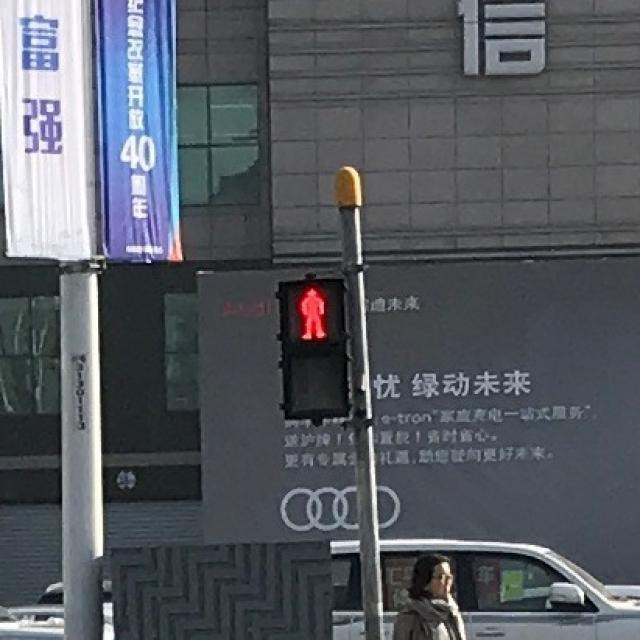red_light: (280, 278, 343, 342)
